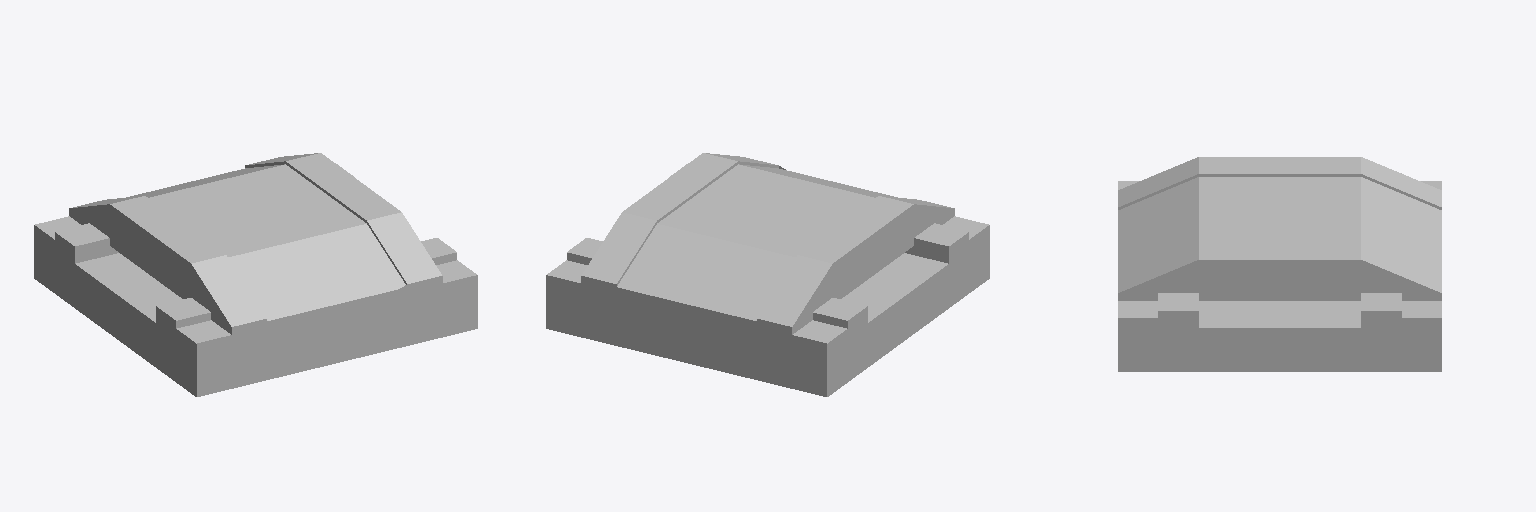
Rendered from roadTile_233.obj.
3 views of the same model, side by side, from view 1: azimuth 30°, elevation 25°; view 2: azimuth 150°, elevation 25°; view 3: azimuth 270°, elevation 25° (orthographic).
Parts seen in each view (by area): view 1: Mesh1 Group1 Model; view 2: Mesh1 Group1 Model; view 3: Mesh1 Group1 Model.
Part boxes in pixels (x1,y1,x2,y2): Mesh1 Group1 Model: (34,153,477,396); Mesh1 Group1 Model: (546,153,989,396); Mesh1 Group1 Model: (1118,157,1441,371).
Size of the model in its own units: 3 by 0.975 by 3.